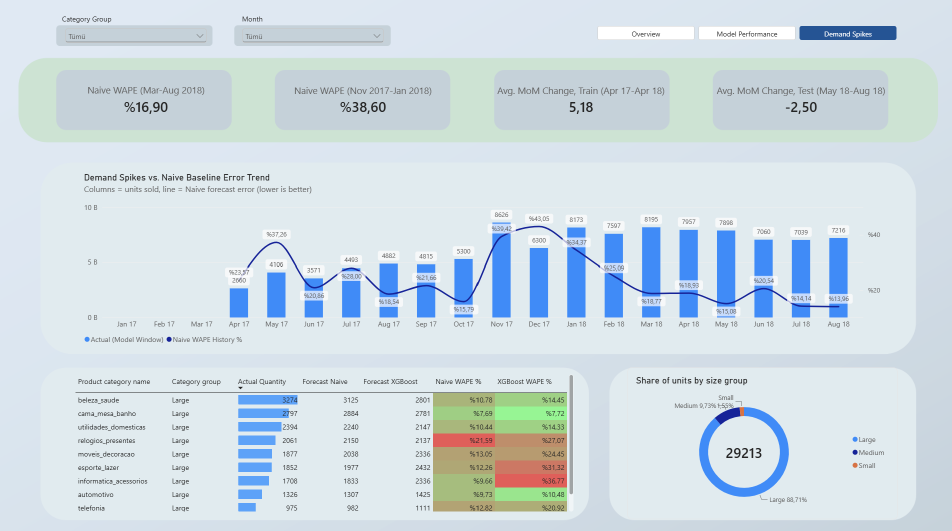

What the dashboard file says about the page in this screenshot:
{"tool":"powerbi","page":{"name":"Demand Spikes","canvas":[1920,1080],"ordinal":2},"visuals":[{"type":"cardVisual","fields":{"Data":["_Measures.WF Naive WAPE %"]},"box":[156,150,280,107.5],"z":0},{"type":"cardVisual","fields":{"Data":["_Measures.Naive WAPE Spike %"]},"box":[568,150,324,108],"z":1},{"type":"cardVisual","fields":{"Data":["_Measures.Avg MoM Change (Train)"]},"box":[928,150,474,108],"z":2},{"type":"cardVisual","fields":{"Data":["_Measures.Avg MoM Change (Test)"]},"box":[1368,150,474,108],"z":3},{"type":"lineClusteredColumnComboChart","title":"Demand Spikes vs. Naive Baseline Error Trend","fields":{"Category":["DimMonth.Month Label"],"Y":["_Measures.Actual (Model Window)"],"Y2":["_Measures.Naive WAPE History %"]},"box":[156,334,1626,378],"z":4},{"type":"tableEx","fields":{"Values":["forecast_results.product_category_name","forecast_results.category_group","_Measures.Actual Quantity","_Measures.Forecast Naive","_Measures.Forecast XGBoost","_Measures.Naive WAPE %","_Measures.XGBoost WAPE %"]},"box":[138,738,1028,304],"z":5},{"type":"donutChart","title":"Share of units by size group","fields":{"Category":["forecast_results.category_group"],"Y":["_Measures.Actual Quantity"]},"box":[1258.3,738.3,540,303.3],"z":6},{"type":"slicer","fields":{"Values":["category_dim.size_group"]},"box":[129,56,292,38],"z":7},{"type":"textbox","box":[80,0,280,23],"z":8},{"type":"slicer","fields":{"Values":["forecast_results.category_group"]},"box":[483,56,292,38],"z":9},{"type":"textbox","box":[488.6,32.9,280,23],"z":10},{"type":"pageNavigator","box":[1198,56,600,28],"z":11}]}

Visuals, with their boxes on the page's 1920x1080 design canvas (x1, y1, x2, y2). These are canvas units, not pixel positions in the 952x531 screenshot, which may show the page scaled, cropped or inside an application window:
cardVisual - _Measures.WF Naive WAPE %: [left=156, top=150, right=436, bottom=258]
cardVisual - _Measures.Naive WAPE Spike %: [left=568, top=150, right=892, bottom=258]
cardVisual - _Measures.Avg MoM Change (Train): [left=928, top=150, right=1402, bottom=258]
cardVisual - _Measures.Avg MoM Change (Test): [left=1368, top=150, right=1842, bottom=258]
"Demand Spikes vs. Naive Baseline Error Trend" lineClusteredColumnComboChart: [left=156, top=334, right=1782, bottom=712]
tableEx - forecast_results.product_category_name x forecast_results.category_group: [left=138, top=738, right=1166, bottom=1042]
"Share of units by size group" donutChart: [left=1258, top=738, right=1798, bottom=1042]
slicer - category_dim.size_group: [left=129, top=56, right=421, bottom=94]
textbox: [left=80, top=0, right=360, bottom=23]
slicer - forecast_results.category_group: [left=483, top=56, right=775, bottom=94]
textbox: [left=489, top=33, right=769, bottom=56]
pageNavigator: [left=1198, top=56, right=1798, bottom=84]
